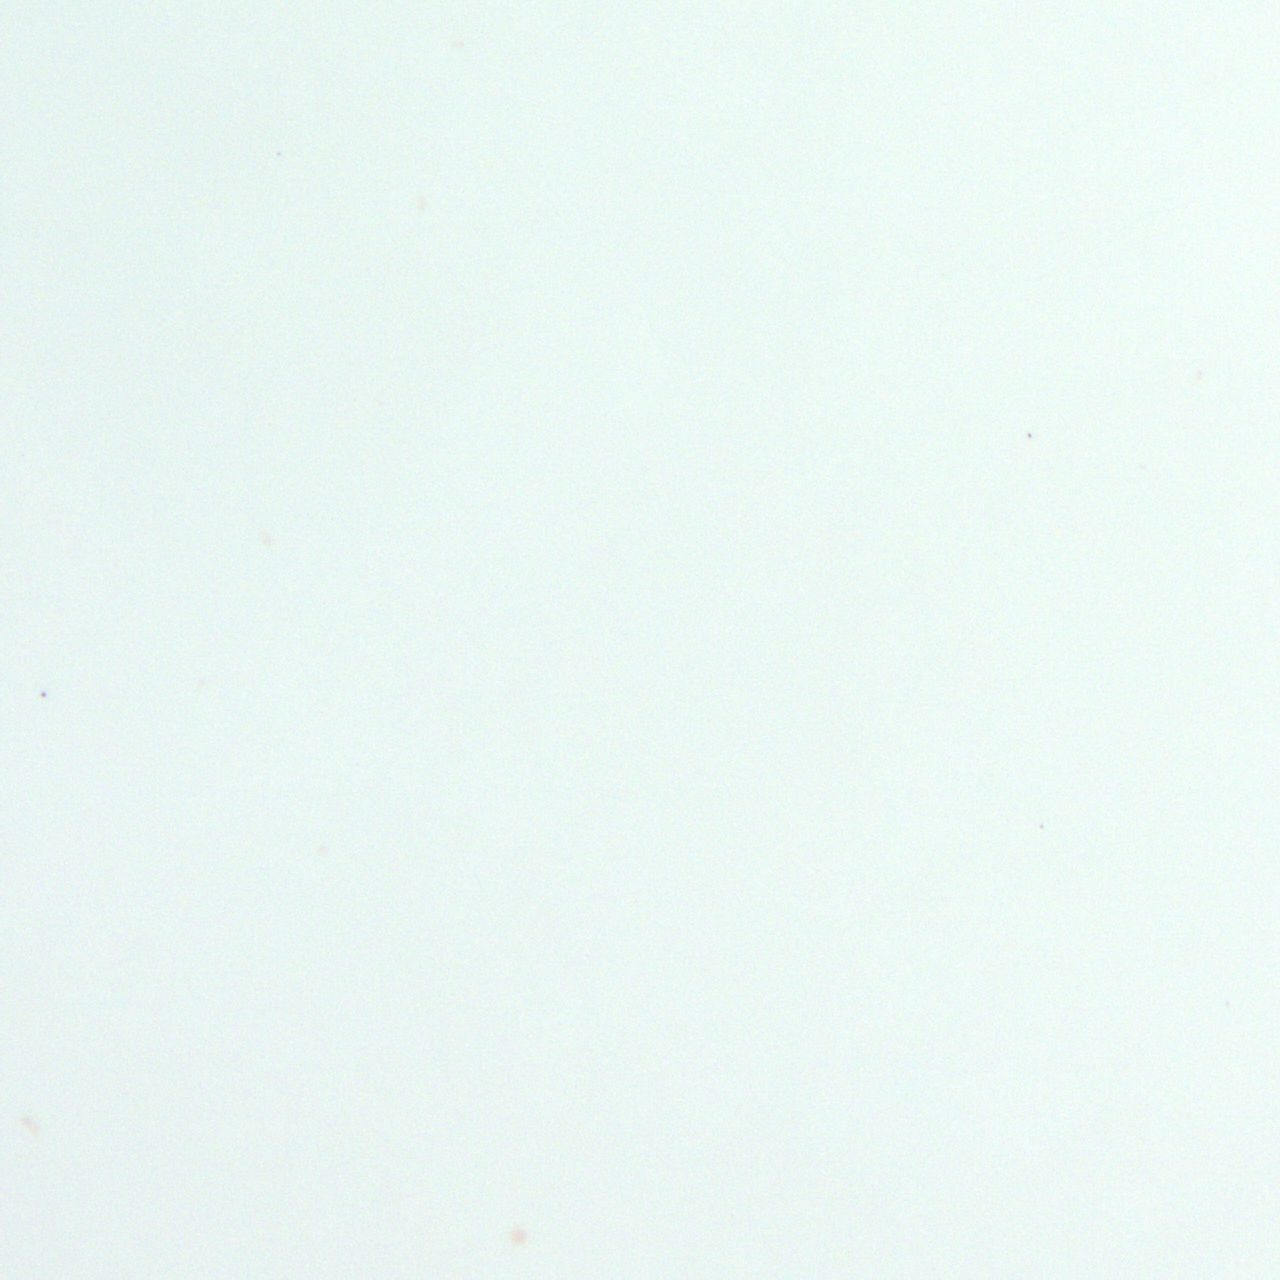dust: (1039, 822, 1048, 831), (1024, 431, 1033, 440), (40, 690, 47, 697)
